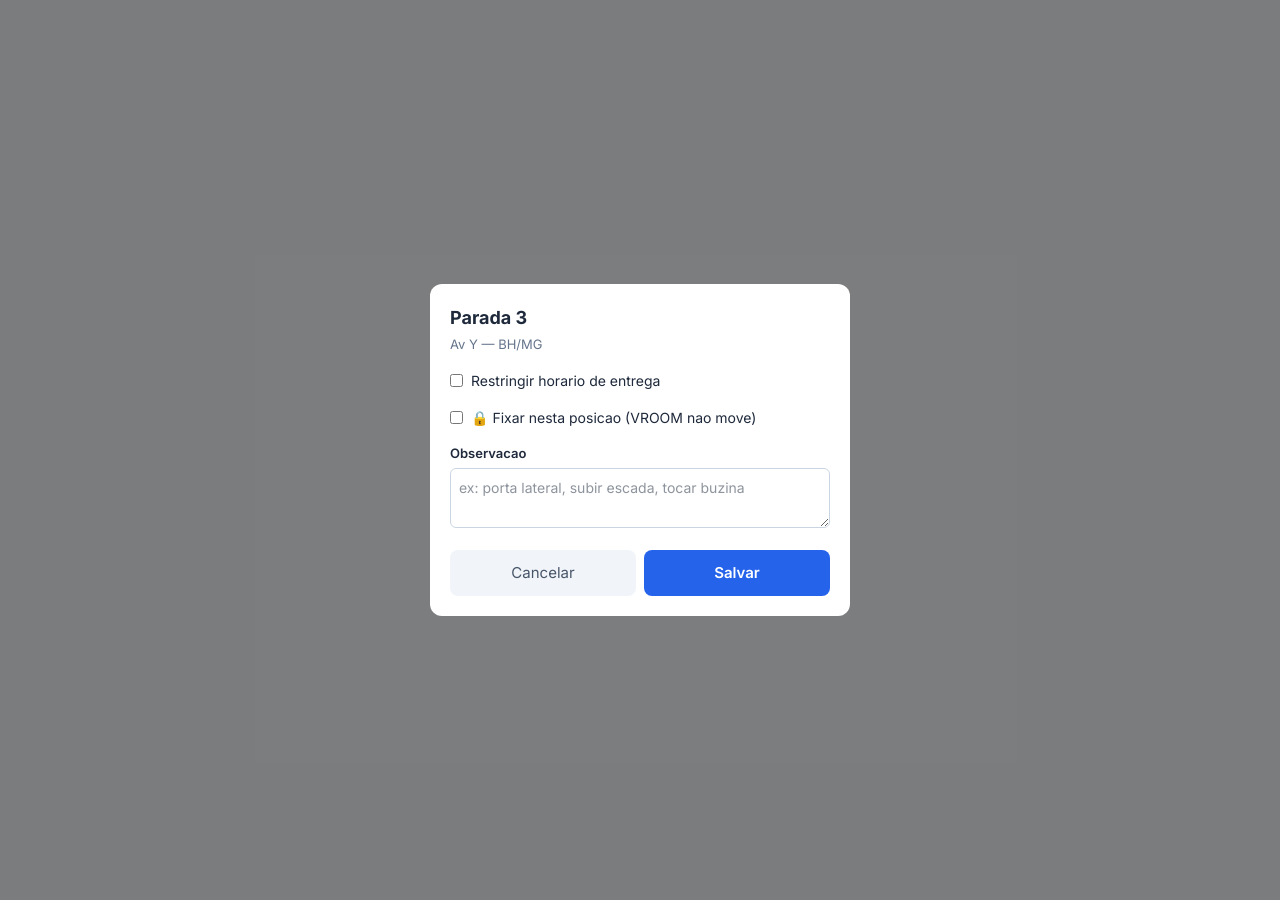
Test case: ModalHorario › marcando checkbox de janela mostra inputs de tempo
Step 1. Click the checkbox named "tem janela" → (456,381), box [450,374,463,387]
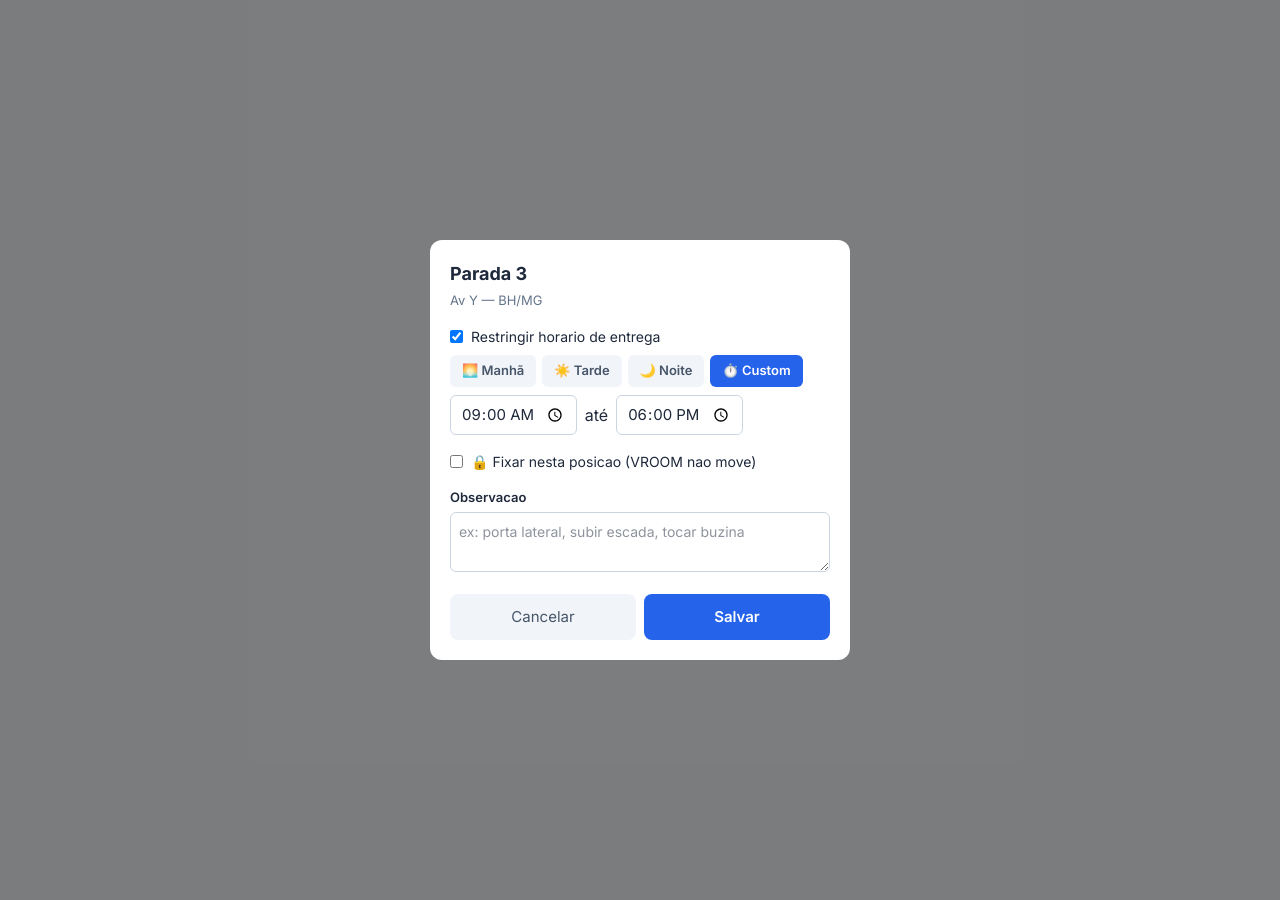
Expected: the time field named "horario inicio" is shown, [450,395,577,435]
Expected: the time field named "horario fim" is shown, [616,395,743,435]
